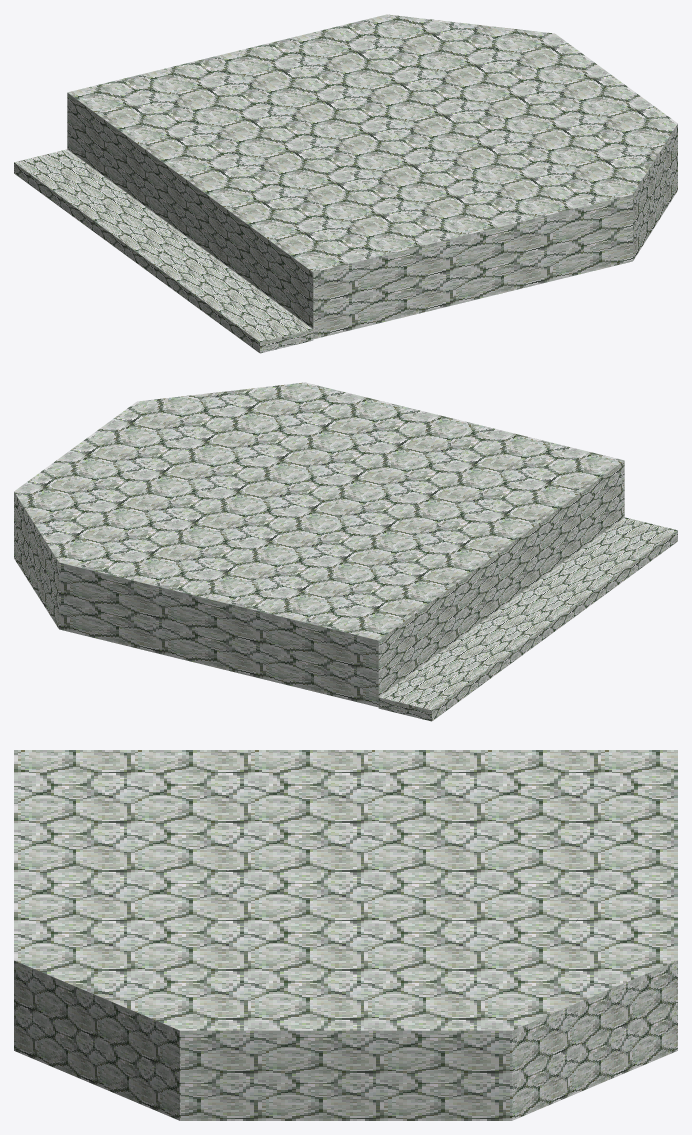
File: central_platform.obj
The picture shows the model from 3 angles, top to bottom: view 1: azimuth 30°, elevation 25°; view 2: azimuth 150°, elevation 25°; view 3: azimuth 270°, elevation 25°; orthographic projection. The views are drawn at different scales.
Parts seen in each view (by area): view 1: Cube, Plane; view 2: Cube, Plane; view 3: Cube.
Part boxes in pixels (box(x1,y1,x2,y2)): Cube: box(67, 14, 677, 339); Plane: box(14, 149, 313, 353); Cube: box(14, 382, 624, 707); Plane: box(378, 517, 677, 721); Cube: box(14, 750, 677, 1120).
Bounding box in the file's own units: 2.25 × 0.305 × 2.
Materials: 1 (1 with a texture image).
